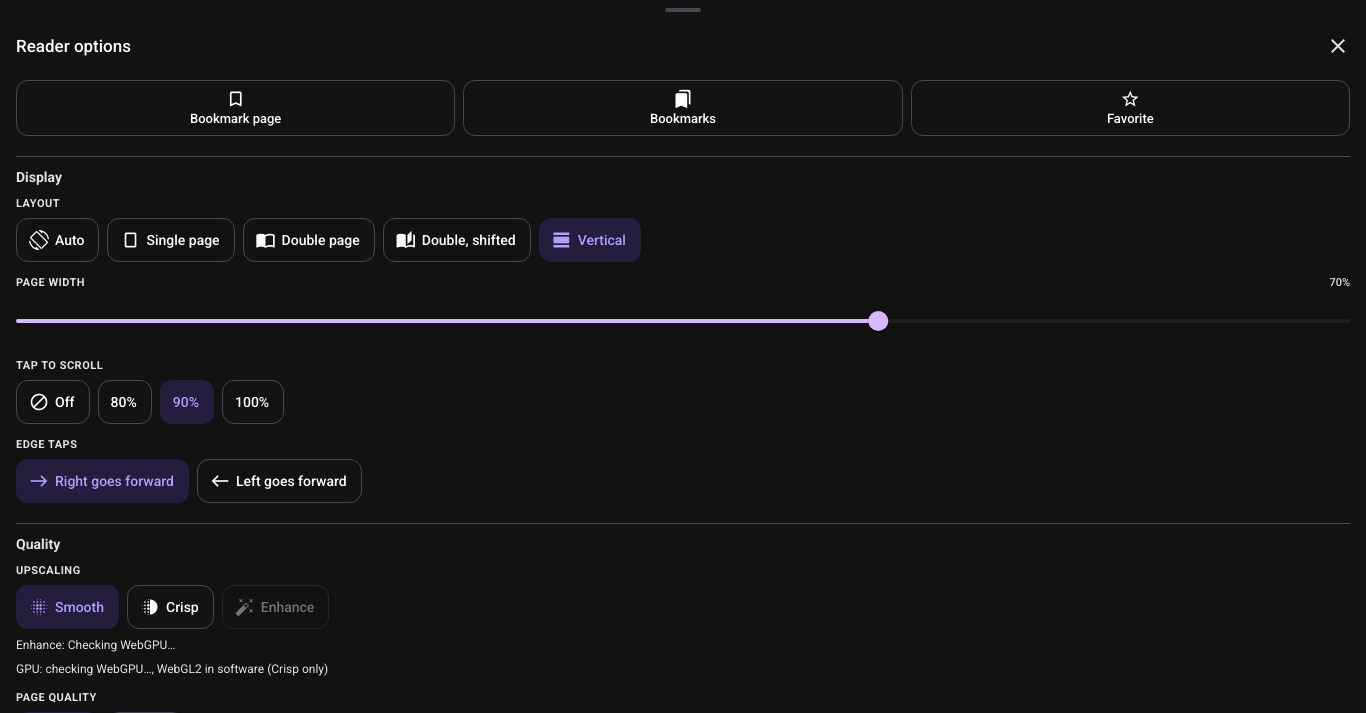
ReaderOptionsSheetComponent › webtoon: Edge taps reads as inactive while Tap to scroll is Off, and comes back with it
The image size is (1366, 713).
Click the radio button labelled "Off": x=53, y=402 [16, 380, 90, 424]
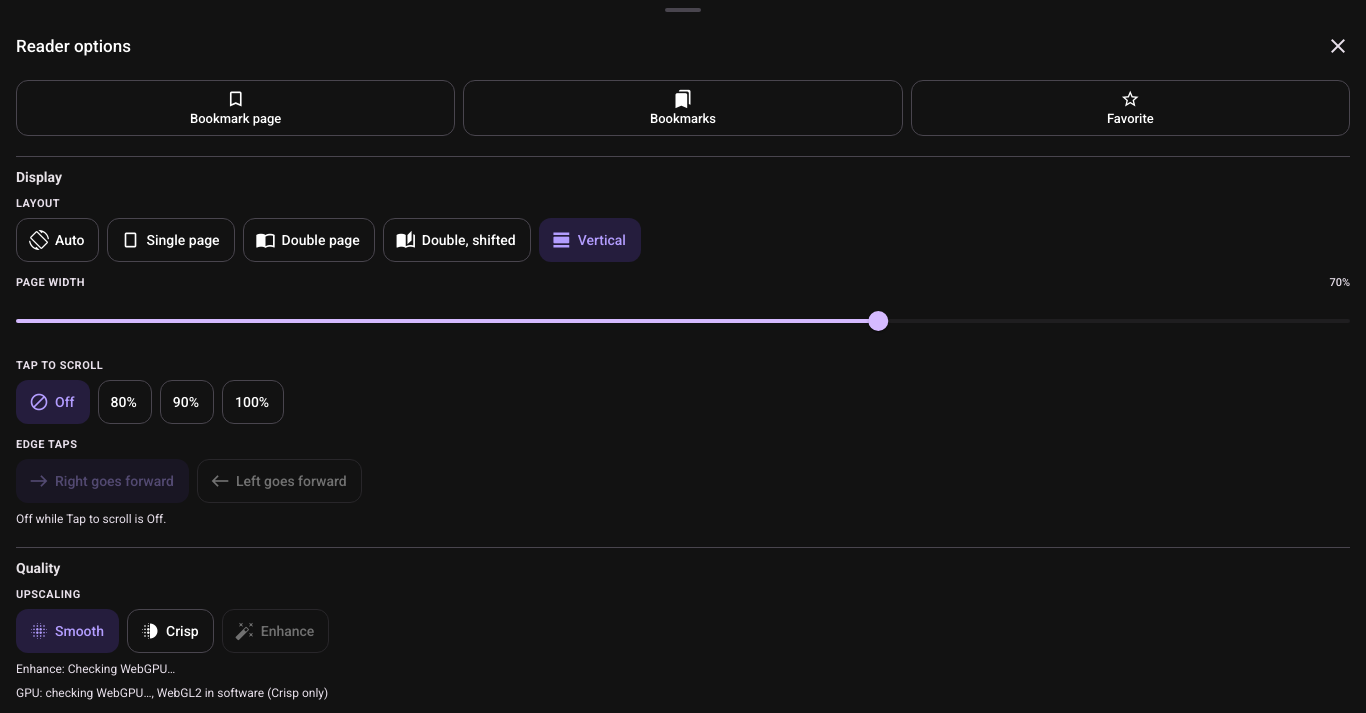
Expected: the text with class "group-hint" shows "Off while Tap to scroll is Off", [16, 512, 166, 526]
Click the radio button labelled "90%": x=187, y=402 [160, 380, 214, 424]
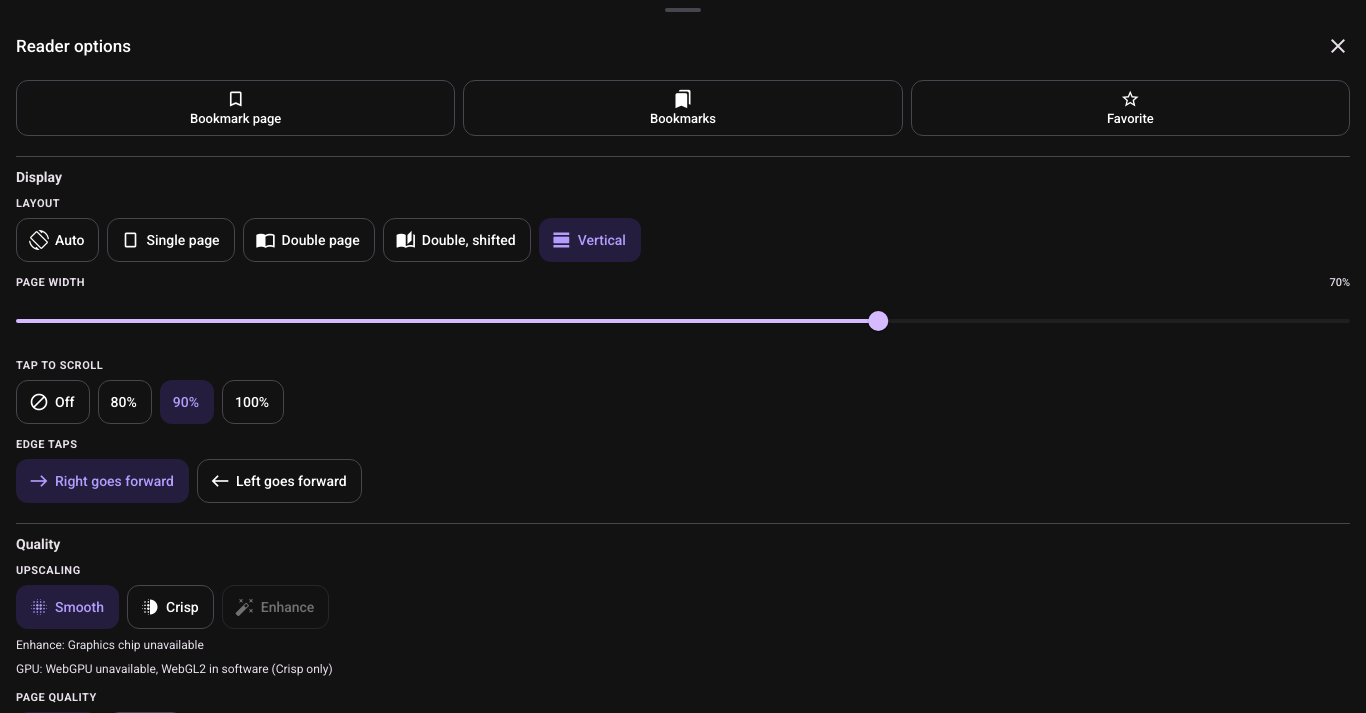
Expected: the text "Off while Tap to scroll is Off." is gone
